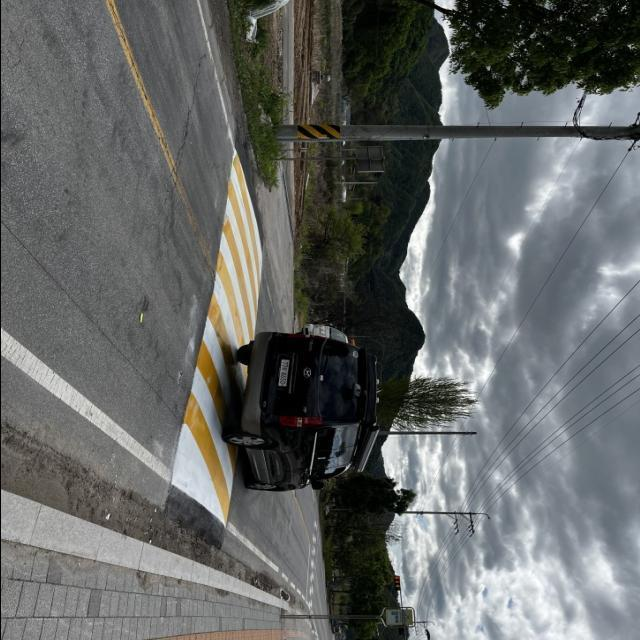speedbreaker: (165, 141, 282, 535)
